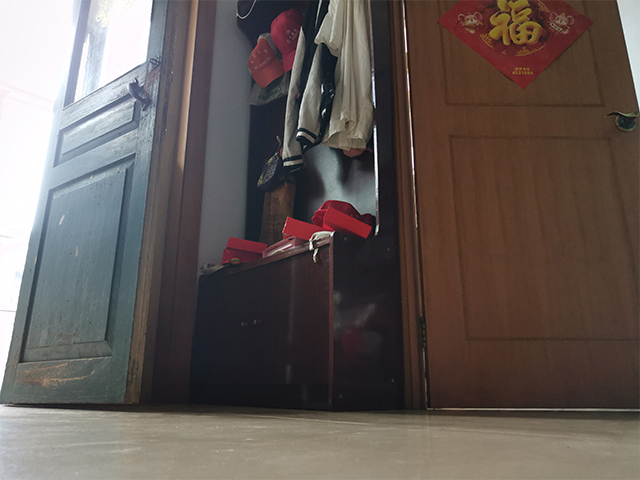cabinet: (186, 222, 390, 413)
